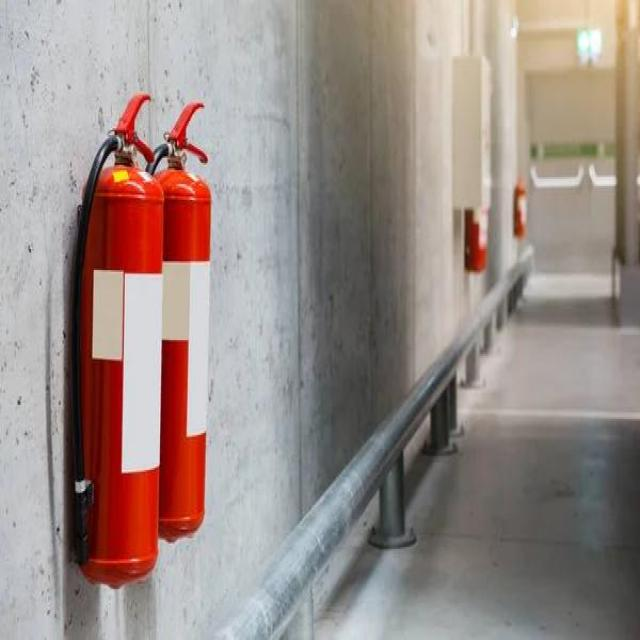fire_extinguisher: (60, 82, 164, 592), (128, 94, 214, 548), (458, 166, 493, 278), (512, 171, 526, 241)
